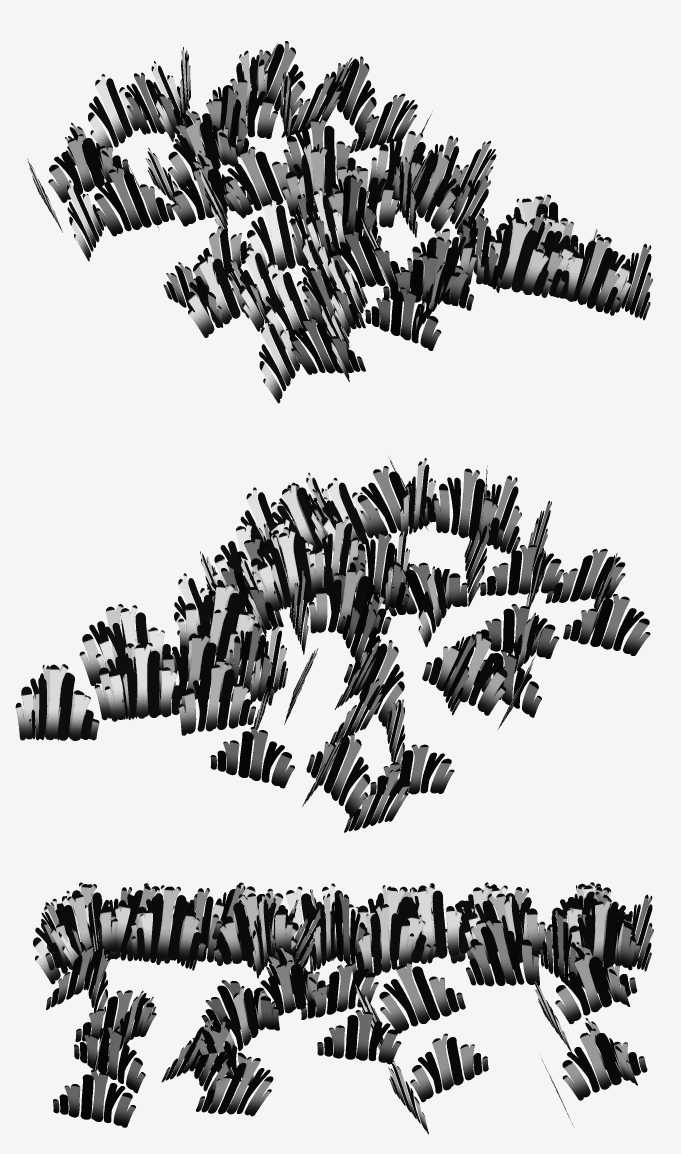
The model's file is SK_PlayerHouse_FirstStage_Grass.fbx.
3 renders of one model, top to bottom at view 1: azimuth 30°, elevation 25°; view 2: azimuth 150°, elevation 25°; view 3: azimuth 270°, elevation 25°, orthographic. The views are drawn at different scales.
Parts seen in each view (by area): view 1: SK_PlayerHouse_FirstStage.030, SK_PlayerHouse_FirstStage.067, SK_PlayerHouse_FirstStage.036, SK_PlayerHouse_FirstStage.027, SK_PlayerHouse_FirstStage.072, SK_PlayerHouse_FirstStage.020, SK_PlayerHouse_FirstStage.041, SK_PlayerHouse_FirstStage.061, SK_PlayerHouse_FirstStage.011, SK_PlayerHouse_FirstStage.032, SK_PlayerHouse_FirstStage.024, SK_PlayerHouse_FirstStage.039 (+50 smaller); view 2: SK_PlayerHouse_FirstStage.058, SK_PlayerHouse_FirstStage.076, SK_PlayerHouse_FirstStage.073, SK_PlayerHouse_FirstStage.003, SK_PlayerHouse_FirstStage.018, SK_PlayerHouse_FirstStage.023, SK_PlayerHouse_FirstStage.070, SK_PlayerHouse_FirstStage.032, SK_PlayerHouse_FirstStage.027, SK_PlayerHouse_FirstStage.084, SK_PlayerHouse_FirstStage.007, SK_PlayerHouse_FirstStage.069 (+40 smaller); view 3: SK_PlayerHouse_FirstStage.048, SK_PlayerHouse_FirstStage.080, SK_PlayerHouse_FirstStage.037, SK_PlayerHouse_FirstStage.060, SK_PlayerHouse_FirstStage.085, SK_PlayerHouse_FirstStage.078, SK_PlayerHouse_FirstStage.057, SK_PlayerHouse_FirstStage.001, SK_PlayerHouse_FirstStage.062, SK_PlayerHouse_FirstStage.044, SK_PlayerHouse_FirstStage.083, SK_PlayerHouse_FirstStage.065 (+47 smaller).
Boxes of the visible parts, box(x1,y1,x2,y2) form: SK_PlayerHouse_FirstStage.030: box(94, 166, 174, 236); SK_PlayerHouse_FirstStage.067: box(476, 220, 552, 297); SK_PlayerHouse_FirstStage.036: box(223, 146, 299, 217); SK_PlayerHouse_FirstStage.027: box(48, 134, 129, 202); SK_PlayerHouse_FirstStage.072: box(393, 149, 457, 230); SK_PlayerHouse_FirstStage.020: box(186, 254, 261, 337); SK_PlayerHouse_FirstStage.041: box(365, 287, 441, 350); SK_PlayerHouse_FirstStage.061: box(560, 237, 619, 315); SK_PlayerHouse_FirstStage.011: box(246, 198, 308, 278); SK_PlayerHouse_FirstStage.032: box(88, 74, 147, 150); SK_PlayerHouse_FirstStage.024: box(289, 317, 365, 374); SK_PlayerHouse_FirstStage.039: box(329, 230, 405, 289); SK_PlayerHouse_FirstStage.058: box(15, 665, 99, 740); SK_PlayerHouse_FirstStage.076: box(104, 642, 185, 721); SK_PlayerHouse_FirstStage.073: box(178, 662, 255, 735); SK_PlayerHouse_FirstStage.003: box(433, 468, 504, 546); SK_PlayerHouse_FirstStage.018: box(422, 631, 507, 715); SK_PlayerHouse_FirstStage.023: box(563, 594, 650, 655); SK_PlayerHouse_FirstStage.070: box(255, 529, 338, 610); SK_PlayerHouse_FirstStage.032: box(210, 727, 294, 788); SK_PlayerHouse_FirstStage.027: box(306, 732, 370, 817); SK_PlayerHouse_FirstStage.084: box(308, 568, 391, 634); SK_PlayerHouse_FirstStage.007: box(480, 545, 564, 595); SK_PlayerHouse_FirstStage.069: box(357, 466, 440, 539); SK_PlayerHouse_FirstStage.048: box(379, 961, 465, 1033); SK_PlayerHouse_FirstStage.080: box(466, 919, 539, 986); SK_PlayerHouse_FirstStage.037: box(131, 886, 205, 961); SK_PlayerHouse_FirstStage.060: box(562, 1028, 647, 1100); SK_PlayerHouse_FirstStage.085: box(213, 893, 292, 965); SK_PlayerHouse_FirstStage.078: box(555, 953, 637, 1023); SK_PlayerHouse_FirstStage.057: box(410, 1033, 488, 1102); SK_PlayerHouse_FirstStage.001: box(45, 894, 117, 970); SK_PlayerHouse_FirstStage.062: box(53, 1070, 135, 1127); SK_PlayerHouse_FirstStage.044: box(317, 1010, 401, 1064); SK_PlayerHouse_FirstStage.083: box(352, 904, 413, 977); SK_PlayerHouse_FirstStage.065: box(196, 1056, 273, 1116).
Size of the model in its own units: 64.93 by 22.85 by 85.37.
